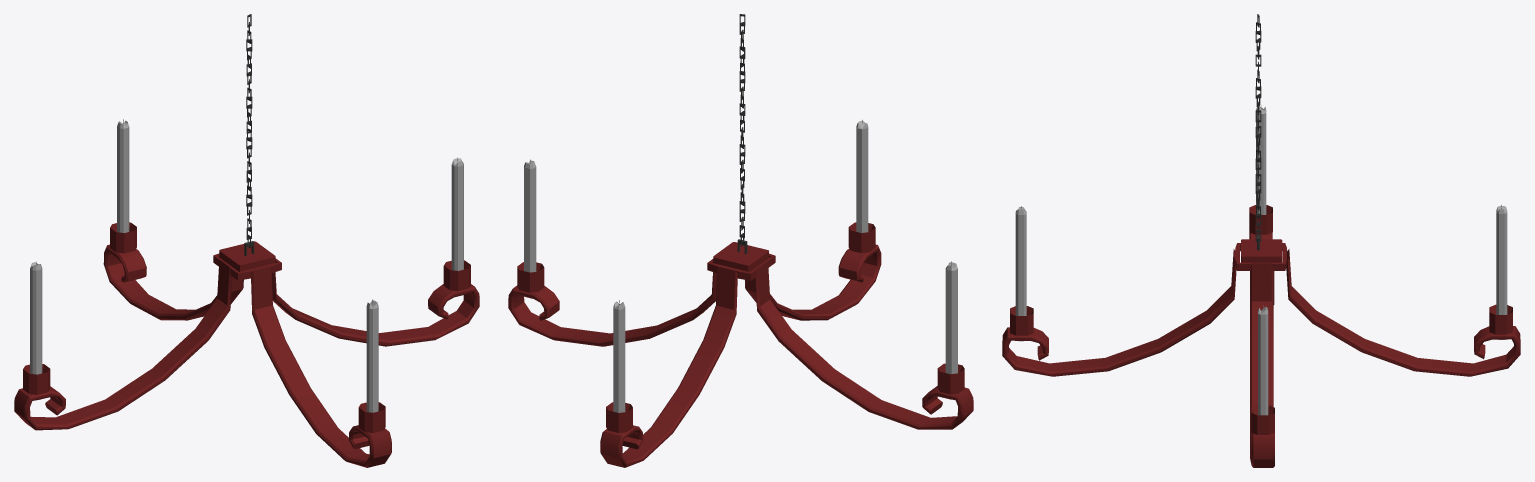
The model's file is Chandeleleleier.fbx.
3 views of the same model, side by side, from view 1: azimuth 30°, elevation 25°; view 2: azimuth 150°, elevation 25°; view 3: azimuth 270°, elevation 25° (orthographic). The views are drawn at different scales.
Visible parts, largest first — view 1: Chandleeeeer; view 2: Chandleeeeer; view 3: Chandleeeeer.
Boxes of the visible parts, left/top/right/bottom form: Chandleeeeer: left=14, top=14, right=479, bottom=467; Chandleeeeer: left=508, top=14, right=973, bottom=467; Chandleeeeer: left=1002, top=14, right=1520, bottom=467.
Size of the model in its own units: 10.26 by 7.89 by 10.37.
